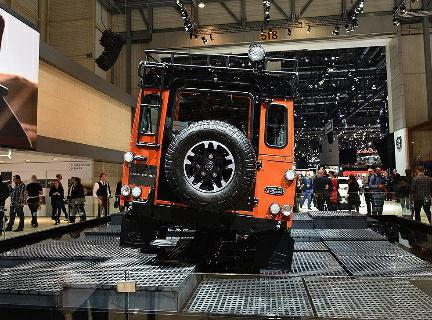路虎-卫士: (112, 80, 297, 267)
